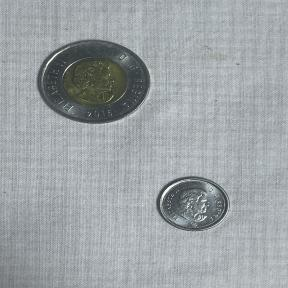Canada-10cent-B: (150, 172, 234, 240)
Canada-2Dollar-B: (31, 33, 157, 130)
